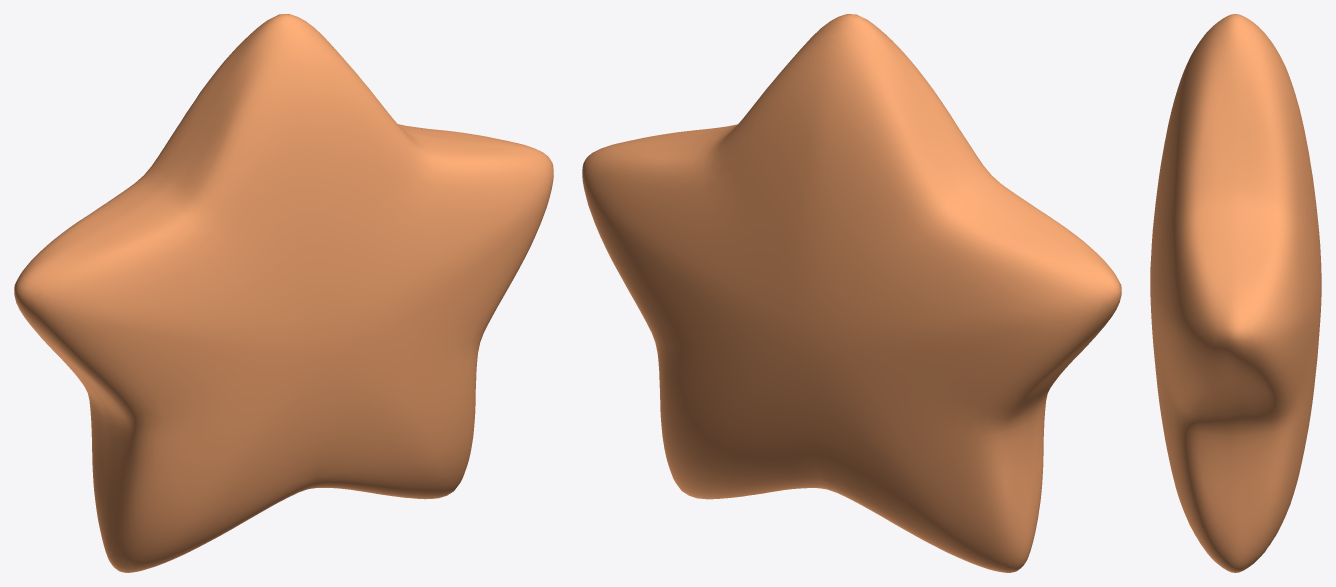
The model's file is star_bronze.glb.
The picture shows the model from 3 angles, left to right: view 1: azimuth 30°, elevation 25°; view 2: azimuth 150°, elevation 25°; view 3: azimuth 270°, elevation 25°; orthographic projection. The views are drawn at different scales.
Visible parts, largest first — view 1: star; view 2: star; view 3: star.
Part boxes in pixels (x1,y1,x2,y2): star: (14, 14, 553, 572); star: (582, 14, 1121, 572); star: (1150, 14, 1321, 572).
Bounding box in the file's own units: 0.2278 × 0.2113 × 0.0678.
